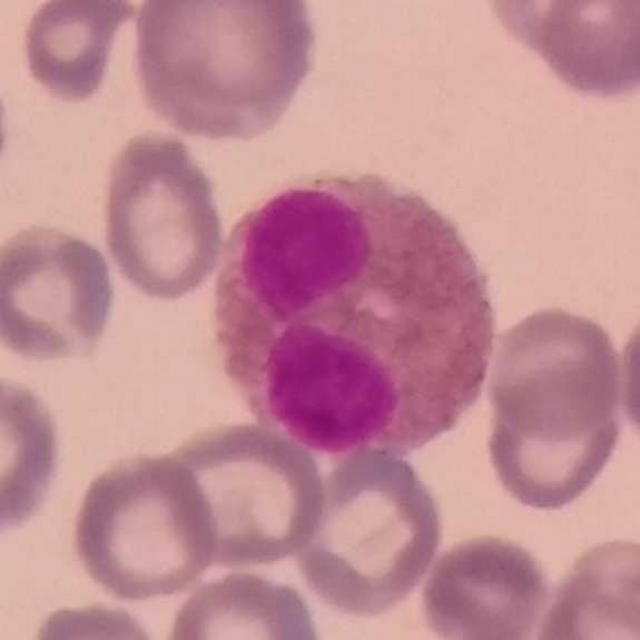Eosinophil: (195, 162, 504, 471)
RBC: (126, 0, 324, 145), (148, 418, 331, 574), (287, 443, 449, 619), (66, 448, 222, 606), (96, 126, 229, 305), (481, 368, 629, 516), (481, 300, 629, 440), (0, 217, 120, 368), (415, 528, 555, 640), (15, 1, 139, 107), (160, 566, 328, 640), (527, 530, 640, 640), (0, 365, 69, 542), (530, 0, 640, 105), (473, 0, 631, 68), (18, 597, 172, 640), (612, 288, 640, 466)
